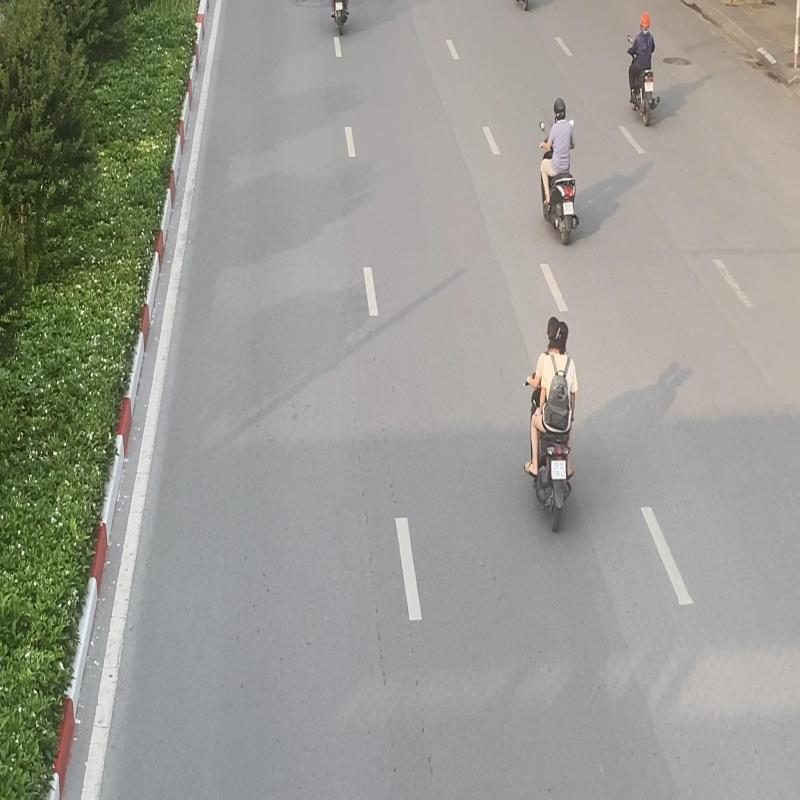licenseplate: (552, 460, 566, 480)
motorcyclist: (522, 312, 578, 535)
nohelmet: (554, 322, 568, 352), (546, 316, 560, 342)
